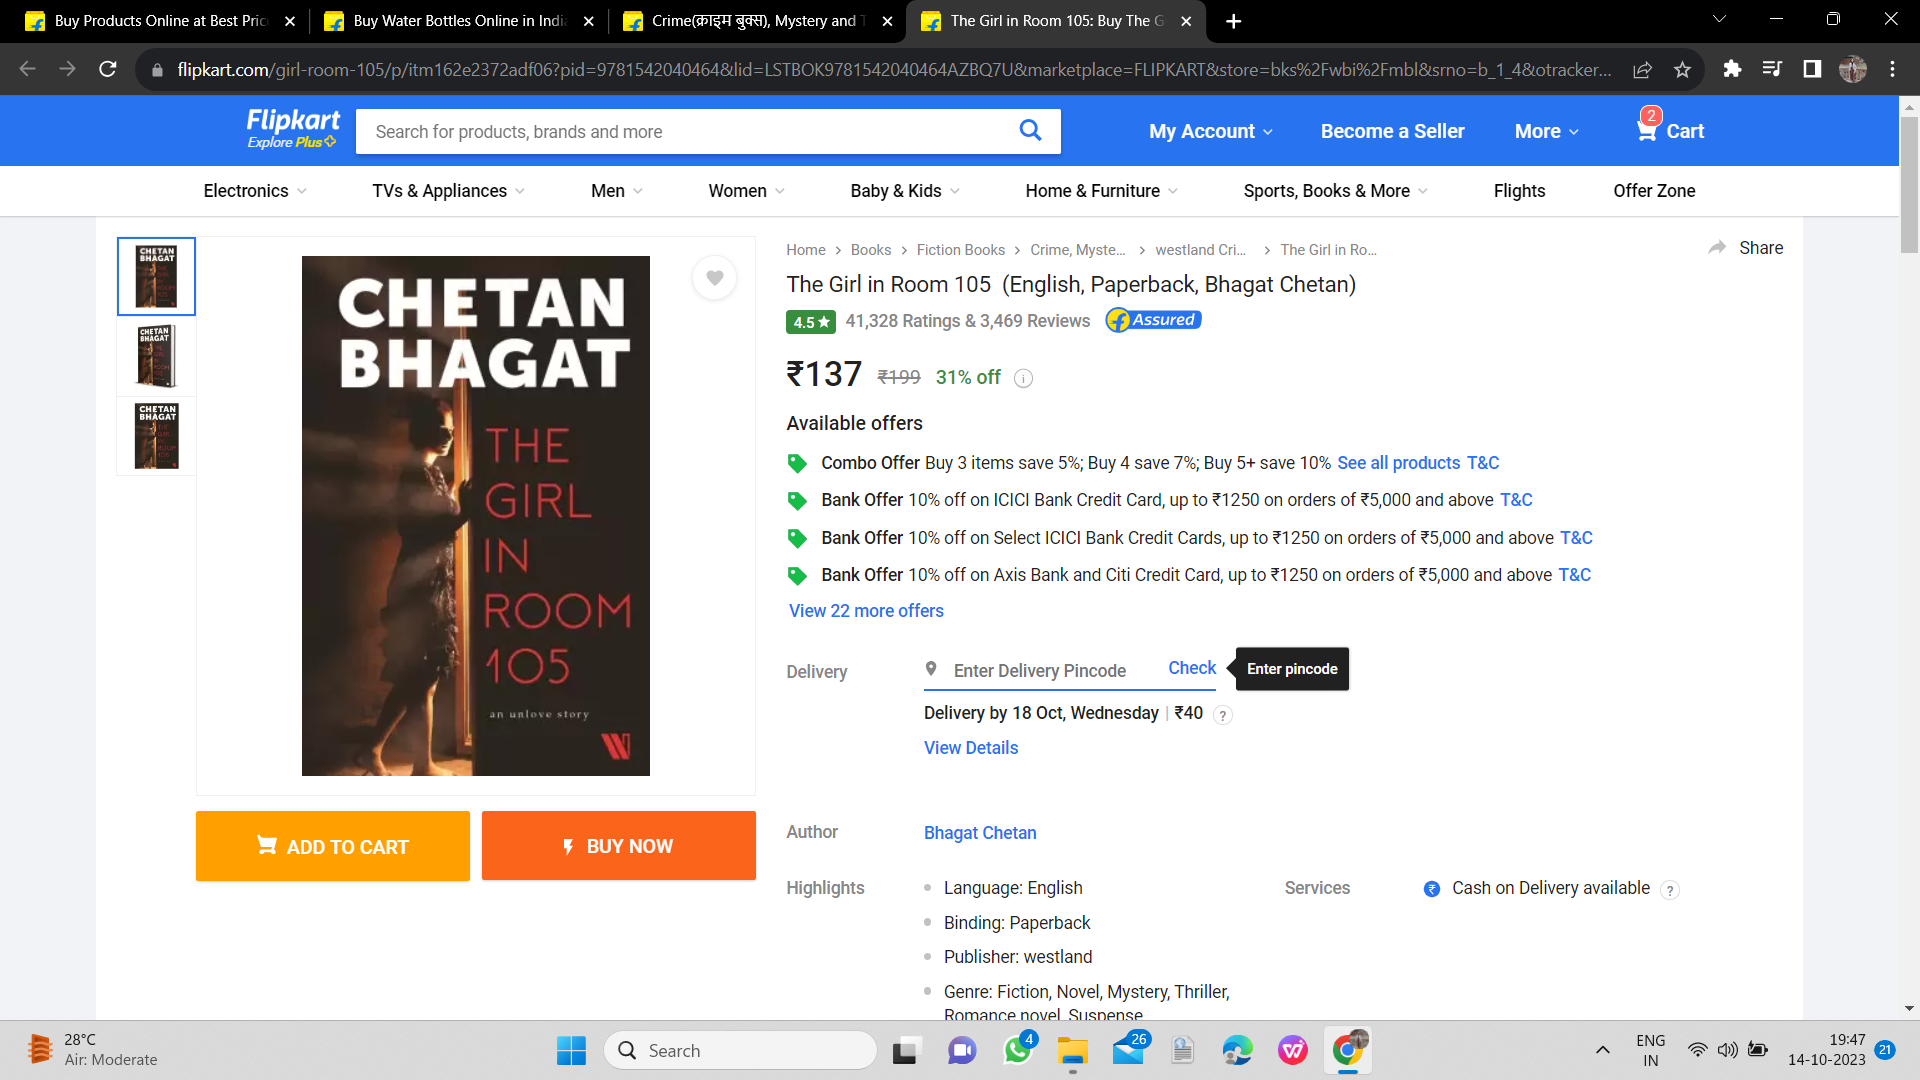Image: (211, 244, 752, 783), (351, 104, 1075, 160)
Paragraph: (775, 451, 1619, 624), (778, 876, 1237, 1019), (189, 794, 758, 886), (1134, 104, 1724, 160), (918, 637, 1361, 686), (779, 266, 1375, 301), (775, 303, 1217, 342), (1271, 865, 1655, 906), (769, 352, 1014, 400), (779, 814, 1047, 848), (913, 699, 1159, 733), (775, 406, 931, 442), (769, 658, 869, 692), (1698, 233, 1792, 262)
